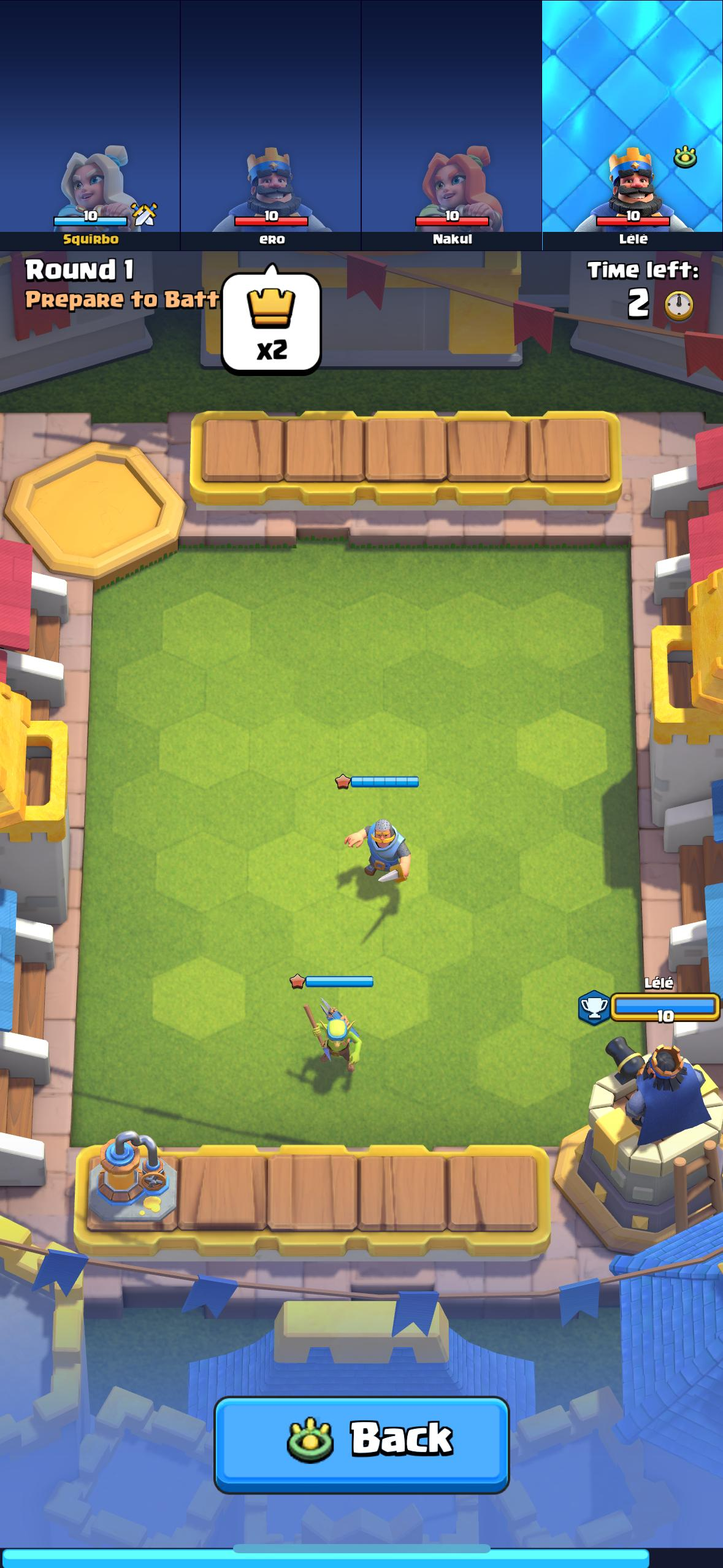collector: (82, 1132, 181, 1230)
knight: (341, 810, 418, 891)
spear: (298, 997, 366, 1075)
